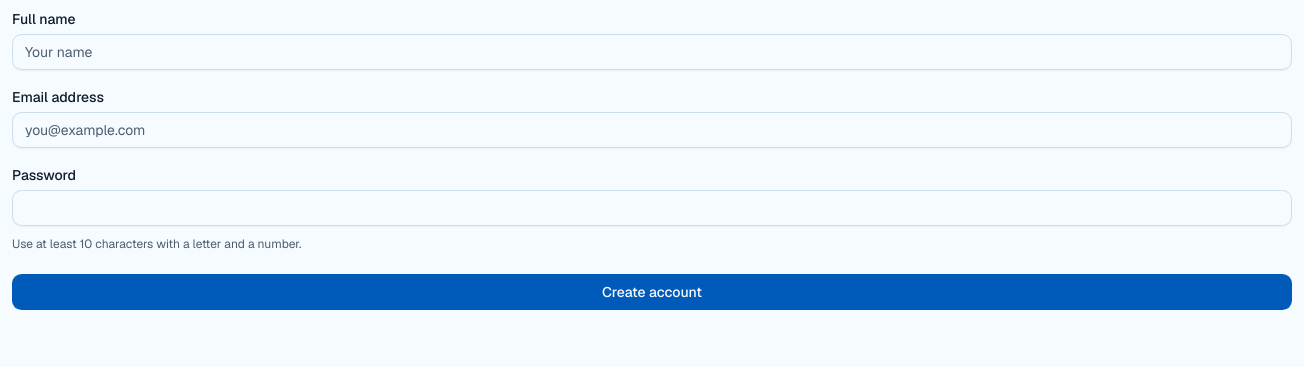
Scenario: SignUpForm › does not expose the auth provider's registration error
In the field labelled "Full name": (652, 52) [12, 34, 1292, 70], type "Solar User"
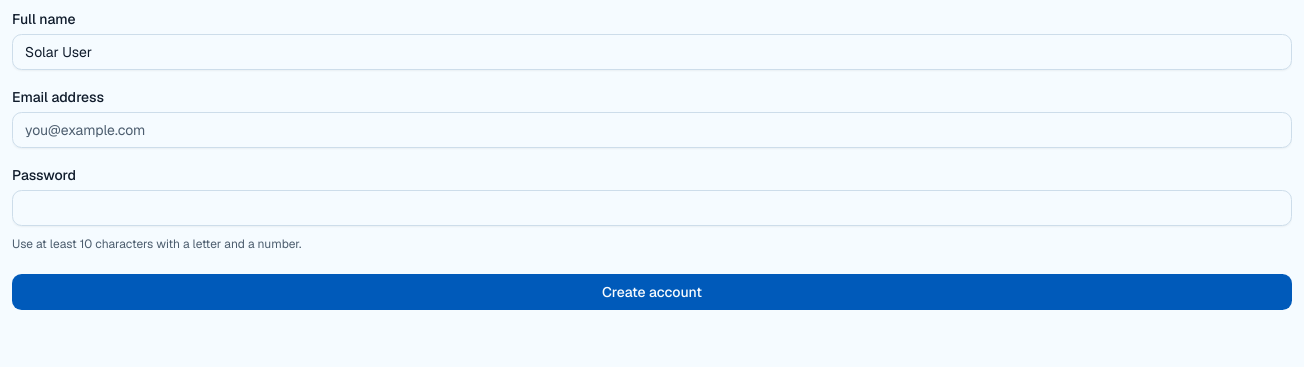
In the field labelled "Email address": (652, 130) [12, 112, 1292, 148], type "solar@example.com"
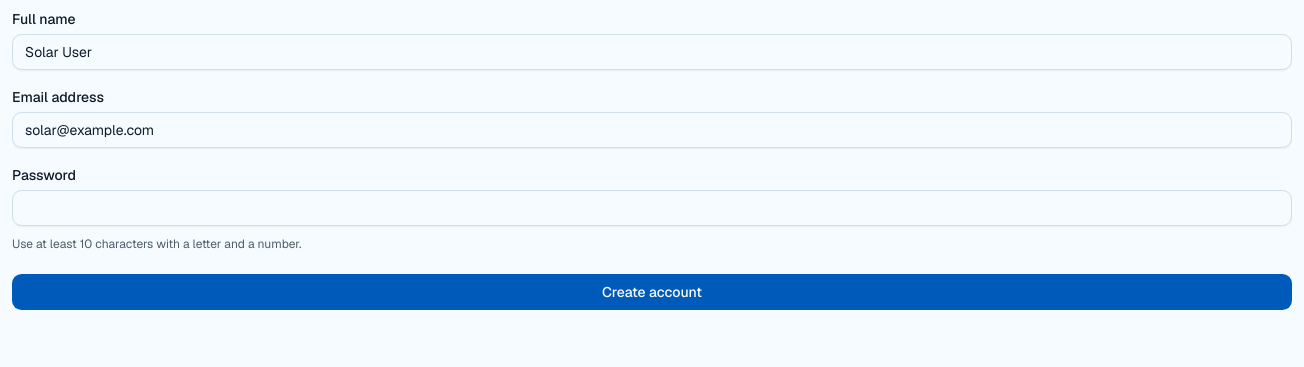
In the password field labelled "Password": (652, 208) [12, 190, 1292, 226], type "SolarPower42"
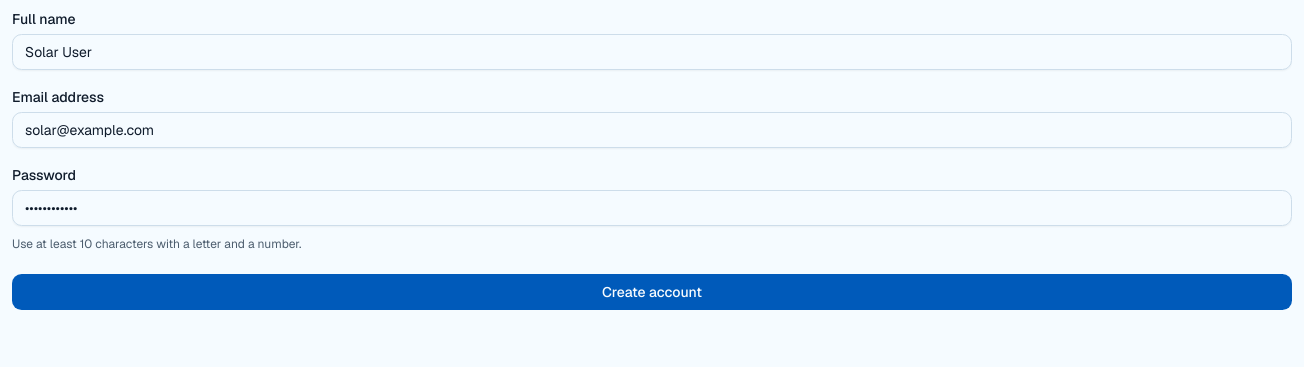
Submit the form named "Create account"
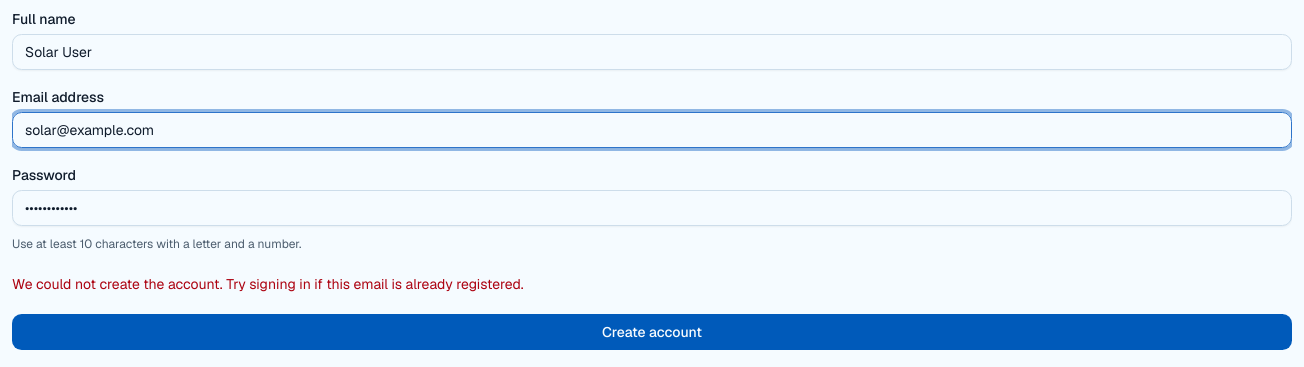
Now the message shows "could not create the account", box [12, 275, 524, 293]
